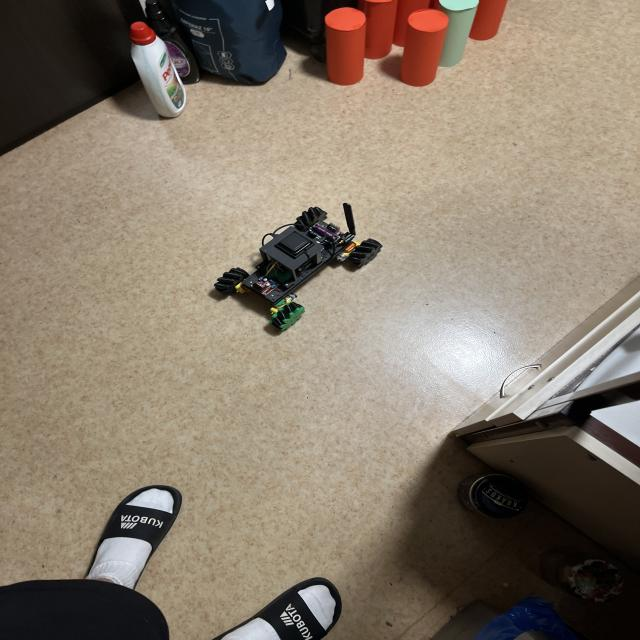robot: (214, 203, 382, 331)
